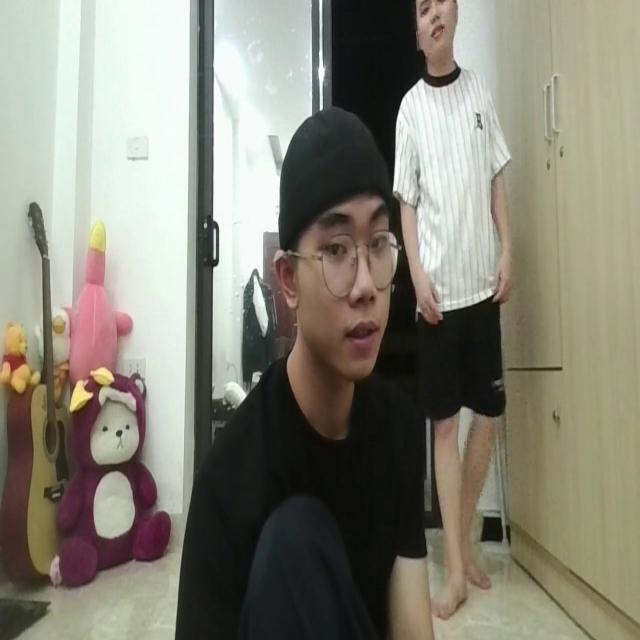extra_person: (397, 0, 519, 615)
student: (184, 97, 426, 640)
